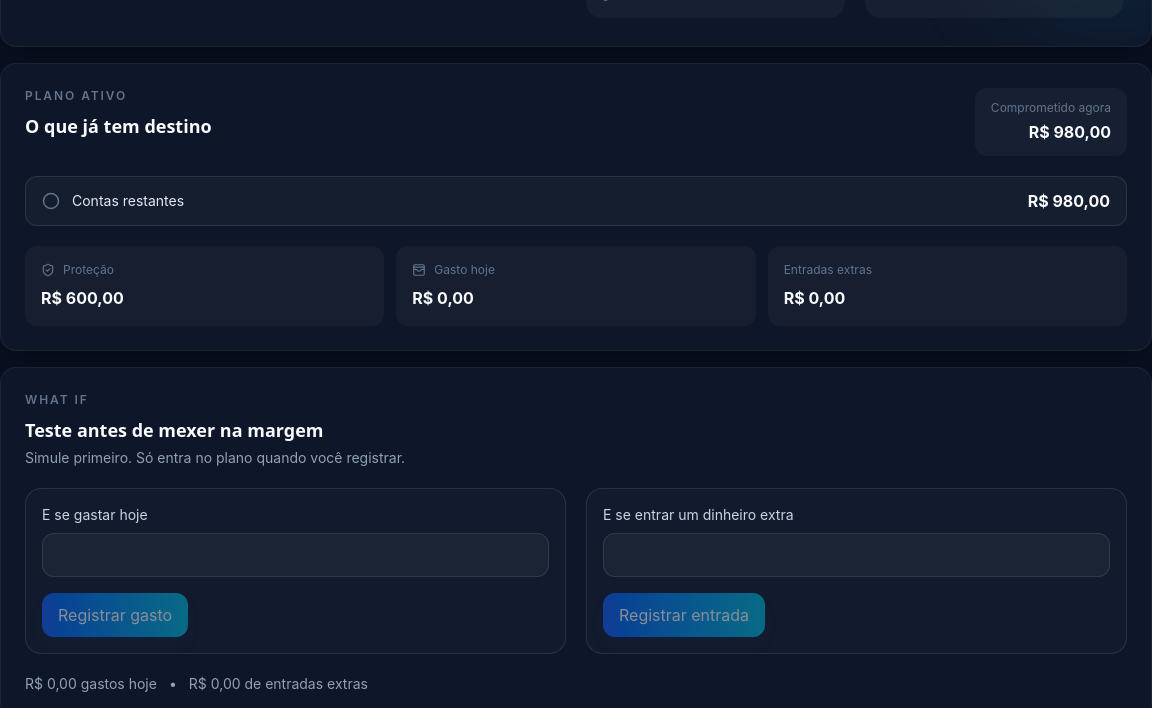
Test: shows daily and weekly rhythm and records what-if changes in the plan
(page scrolled)
Expected: the text "Gasto hoje" is shown, [412,262,495,277]
Type "200" into the number field labelled "E se gastar hoje" at point(296, 555), box [42,533,549,577]
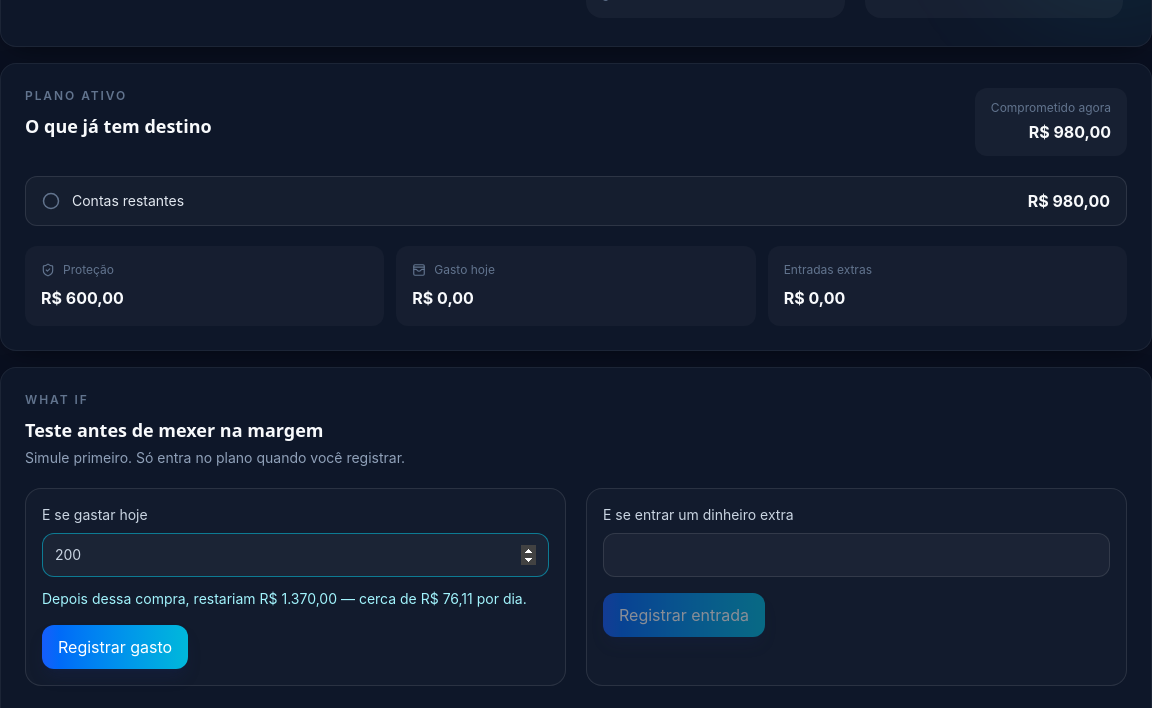
Expected: the text "Depois dessa compra" is shown, [42,590,260,607]
Click the button "Registrar gasto" at point(115, 647), box [42,625,188,669]
(page scrolled)
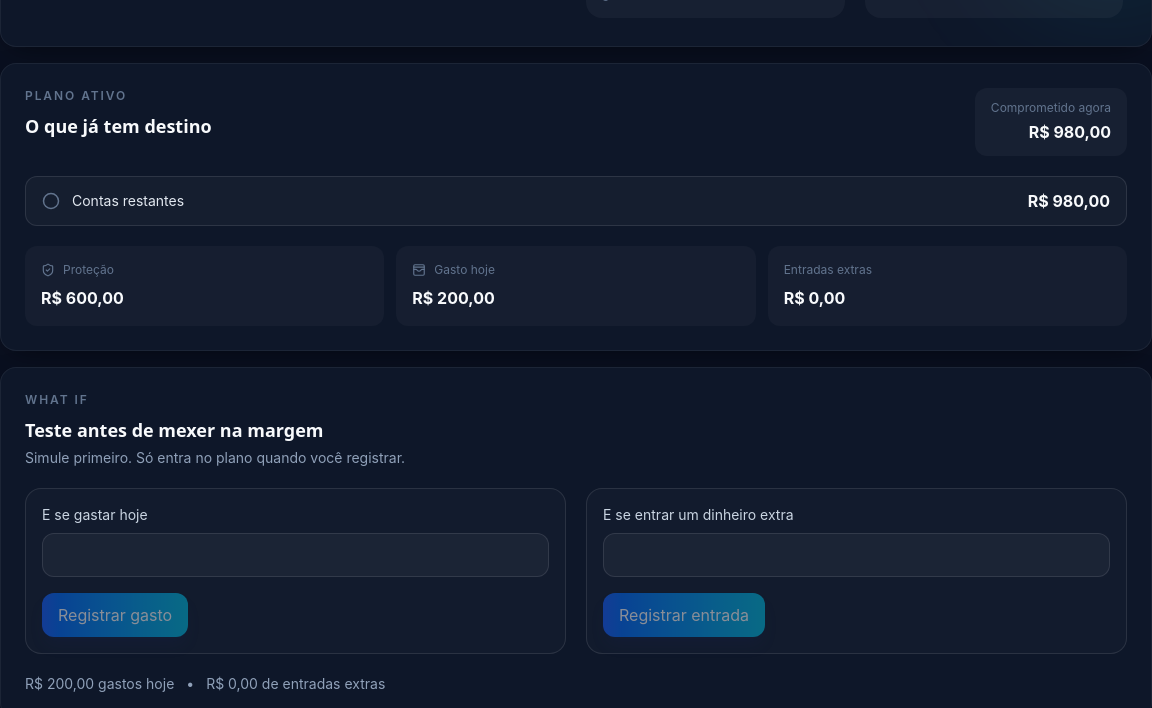
Expected: the text "R$ 200,00 gastos hoje" is shown, [25,674,174,694]
Type "500" into the number field labelled "E se entrar um dinheiro extra" at point(856, 555), box [603,533,1110,577]
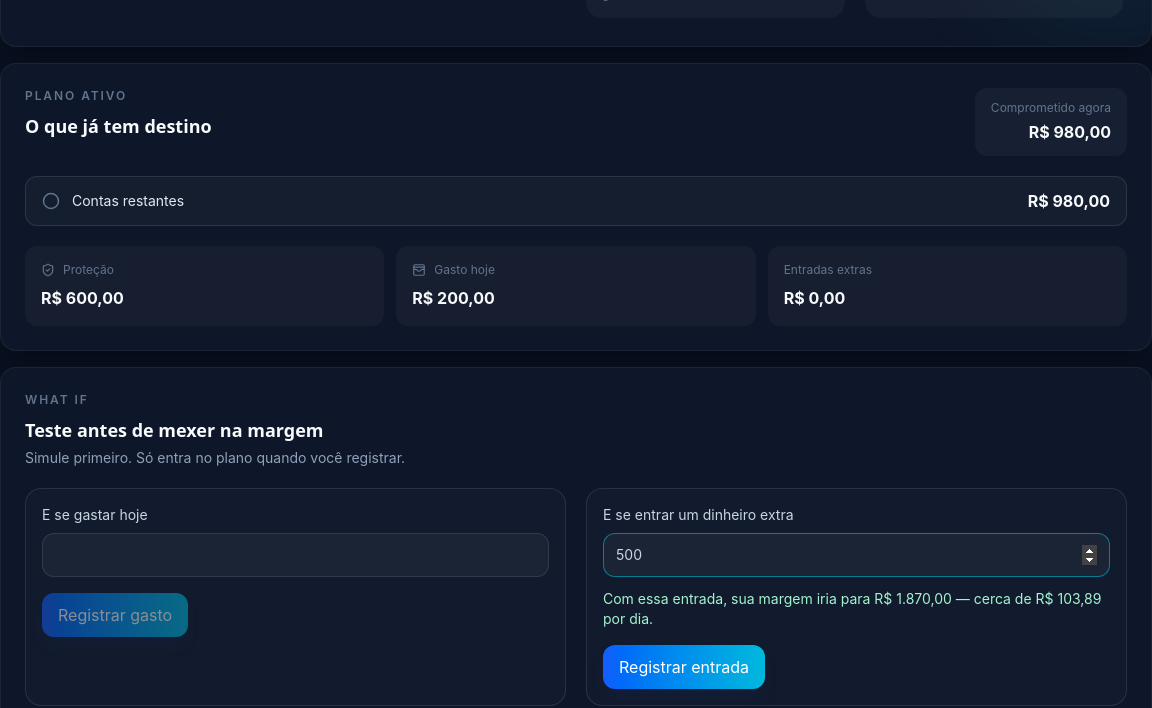
Click the button "Registrar entrada" at point(684, 667), box [603,645,765,689]
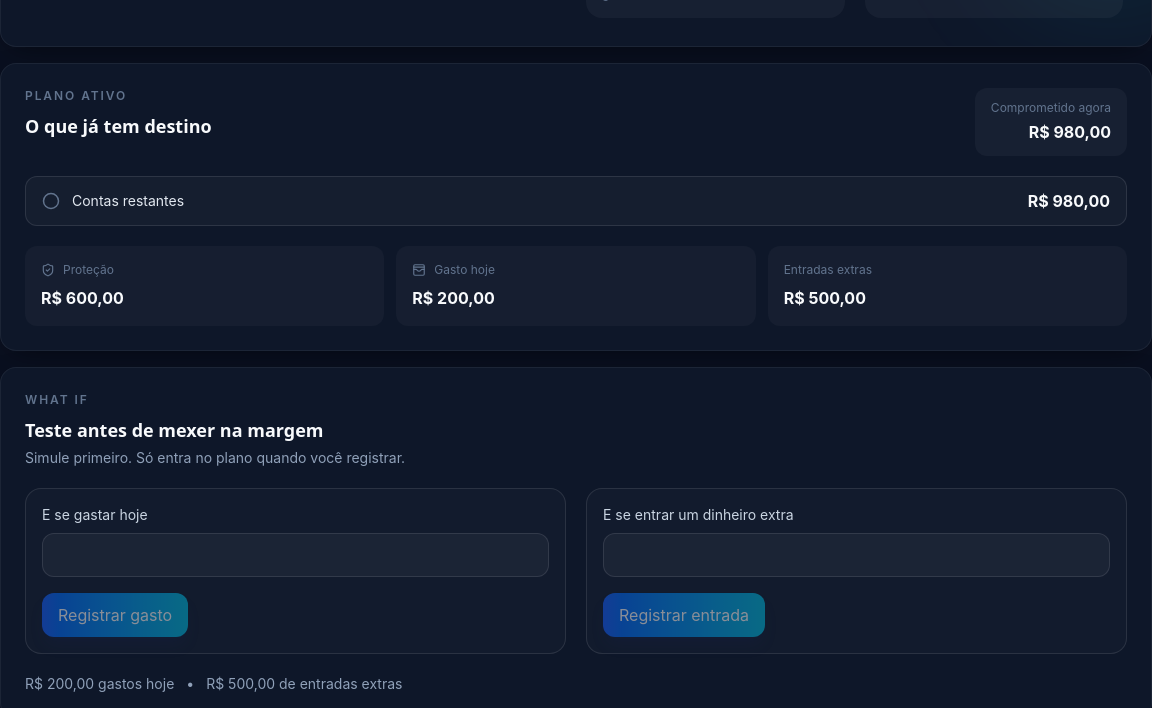
Expected: the text "R$ 500,00 de entradas extras" is shown, [206,674,402,694]
